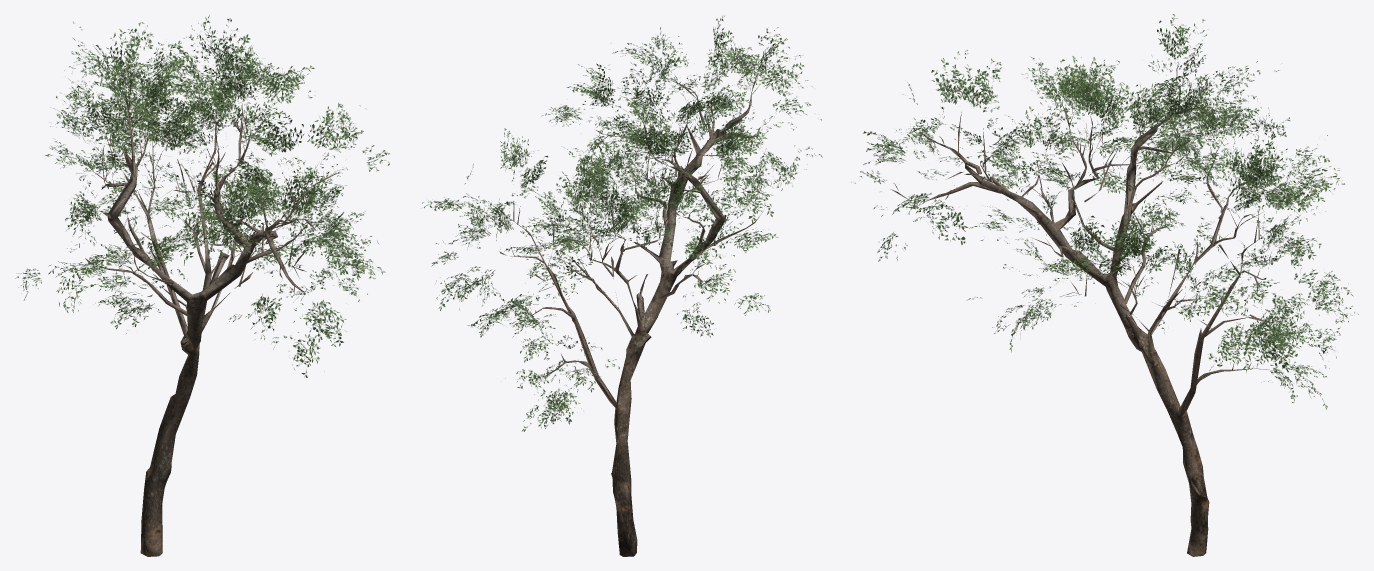
File: tree_small_02_lod0.glb
The picture shows the model from 3 angles, left to right: view 1: azimuth 30°, elevation 25°; view 2: azimuth 150°, elevation 25°; view 3: azimuth 270°, elevation 25°; orthographic projection. The views are drawn at different scales.
Parts seen in each view (by area): view 1: tree_small_02_LOD0; view 2: tree_small_02_LOD0; view 3: tree_small_02_LOD0.
Part boxes in pixels (box(x1,y1,x2,y2)): tree_small_02_LOD0: box(15, 15, 389, 556); tree_small_02_LOD0: box(422, 16, 822, 556); tree_small_02_LOD0: box(851, 14, 1358, 556).
Bounding box in the file's own units: 2.88 × 4.55 × 4.18.
Materials: 3 (3 with a texture image).
